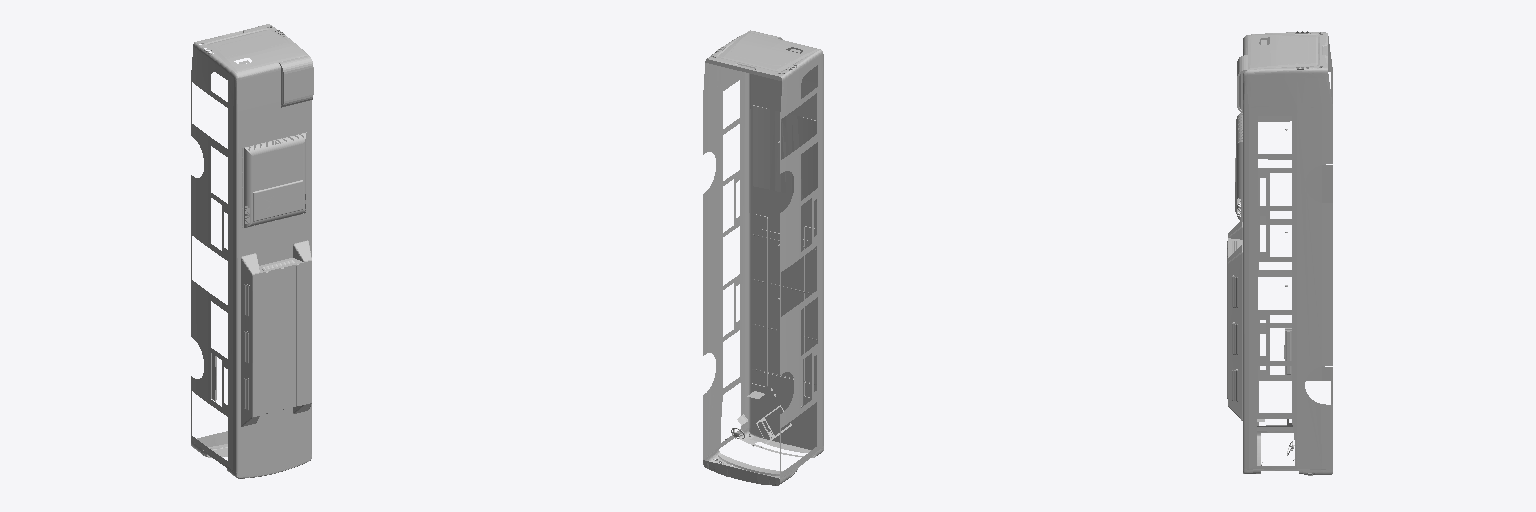
Rendered from body_liaz1024.obj.
The picture shows the model from 3 angles: view 1: azimuth 30°, elevation 25°; view 2: azimuth 150°, elevation 25°; view 3: azimuth 270°, elevation 25°; orthographic projection.
Parts seen in each view (by area): view 1: Liaz1_hheh4; view 2: Liaz1_hheh4; view 3: Liaz1_hheh4.
Boxes of the visible parts, x1=… form: Liaz1_hheh4: x1=191, y1=24, x2=313, y2=478; Liaz1_hheh4: x1=703, y1=30, x2=823, y2=485; Liaz1_hheh4: x1=1227, y1=31, x2=1332, y2=475.
Size of the model in its own units: 125 by 627 by 146.